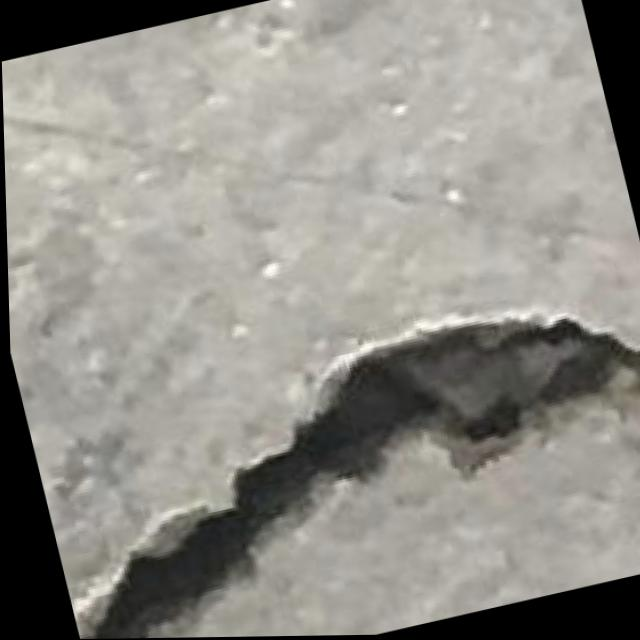Crack: (19, 246, 640, 640)
